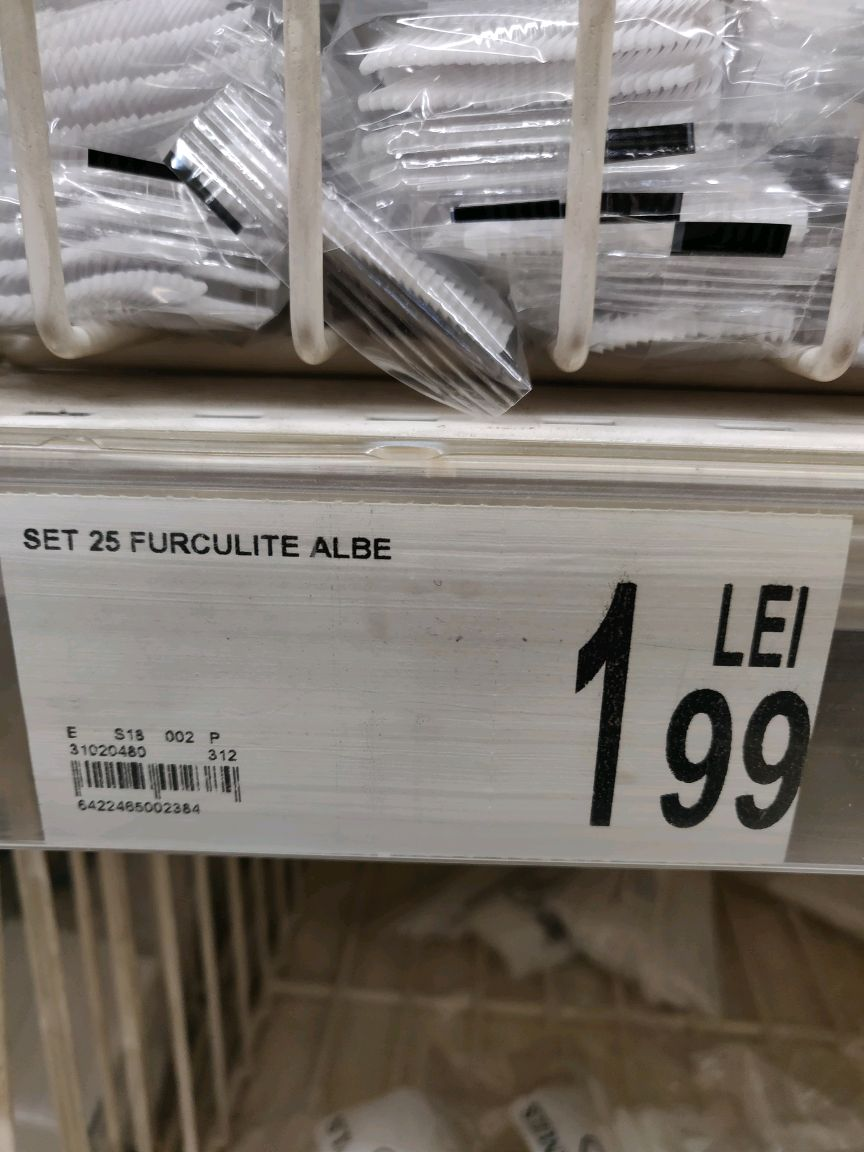price_bani: (655, 675, 822, 838)
price_lei: (563, 571, 651, 835)
price_tag: (1, 490, 855, 869)
product_id: (68, 796, 210, 820)
product_name: (13, 515, 409, 571)
